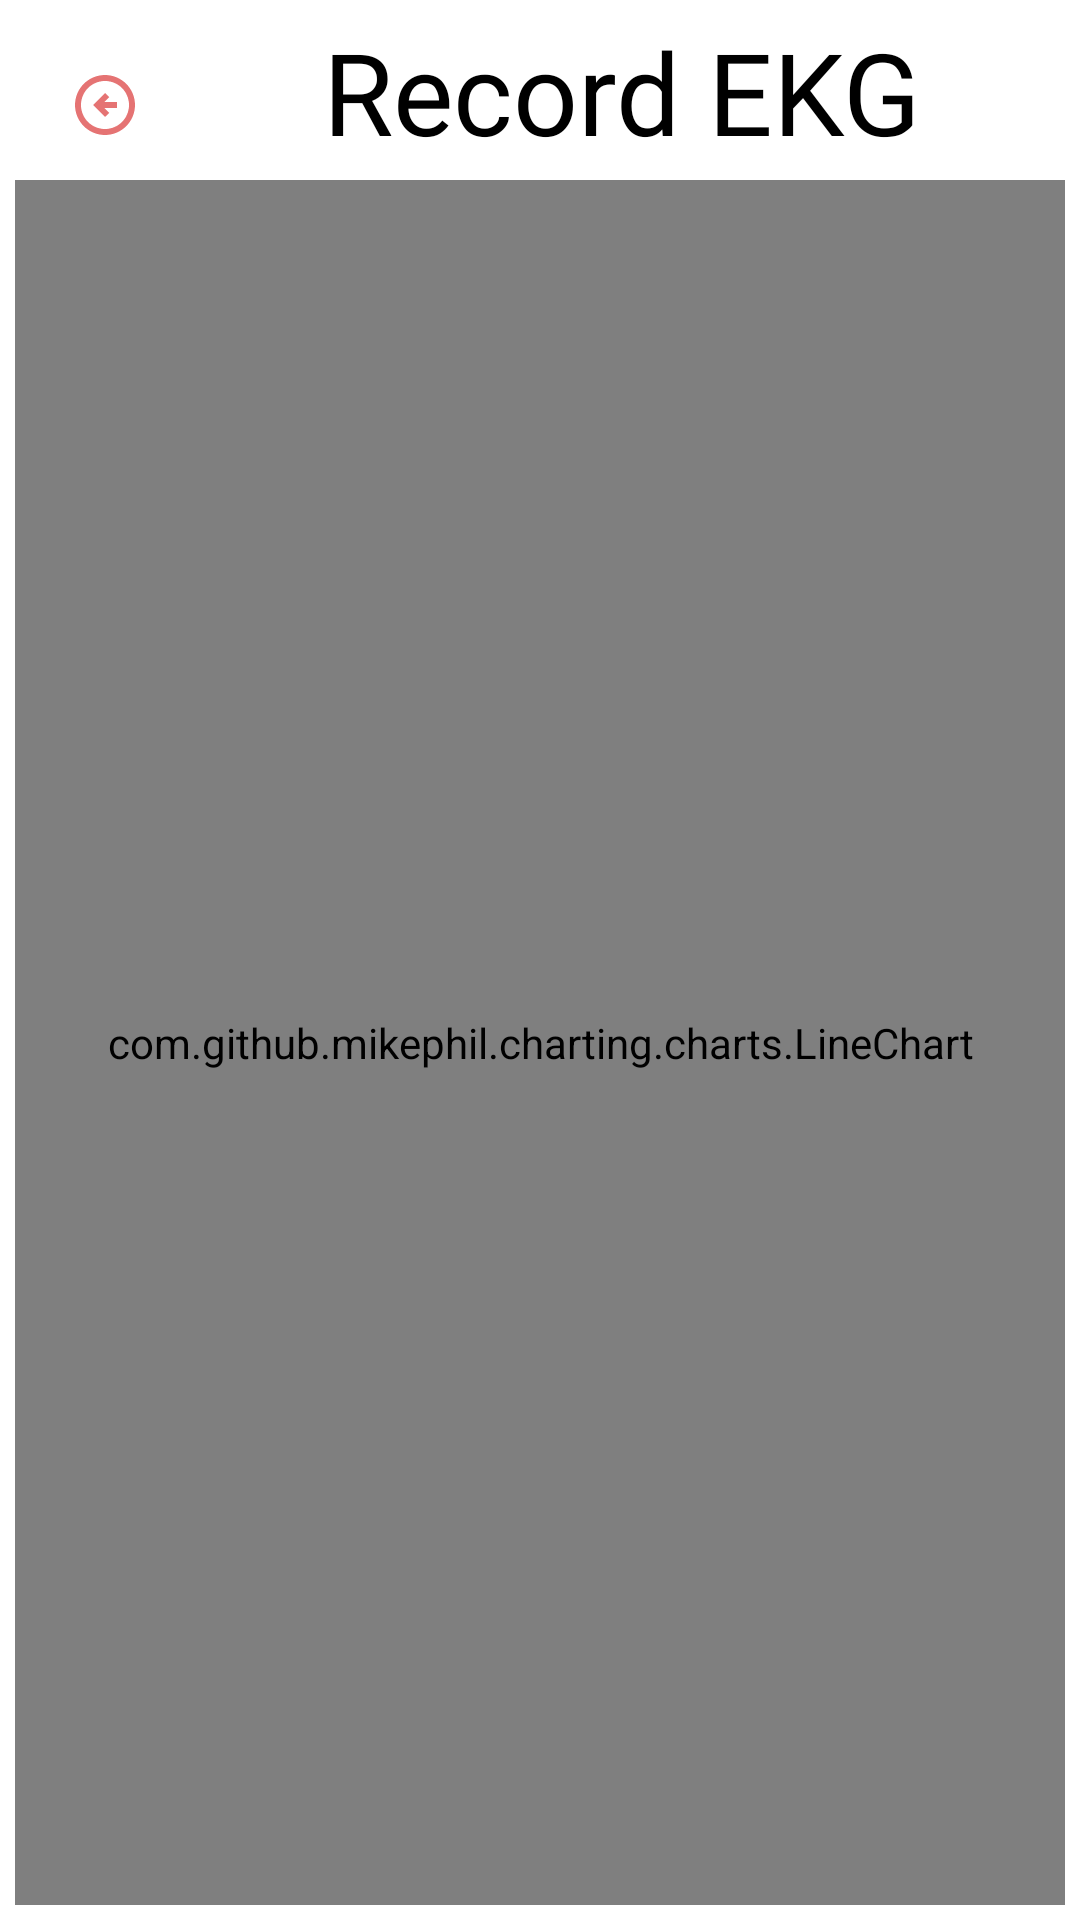

Icons on this 1080 x 1920 Android screen, each with the point to tap as (x=x, y=y):
arrow circle left: (x=105, y=105)
